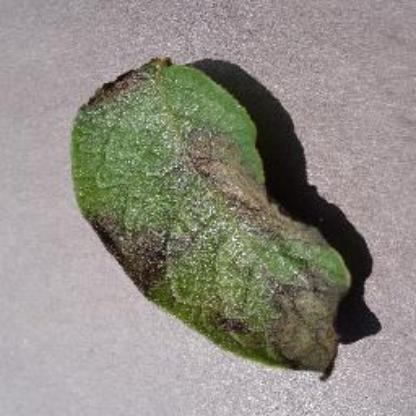Late-Blight: (57, 49, 357, 386)
